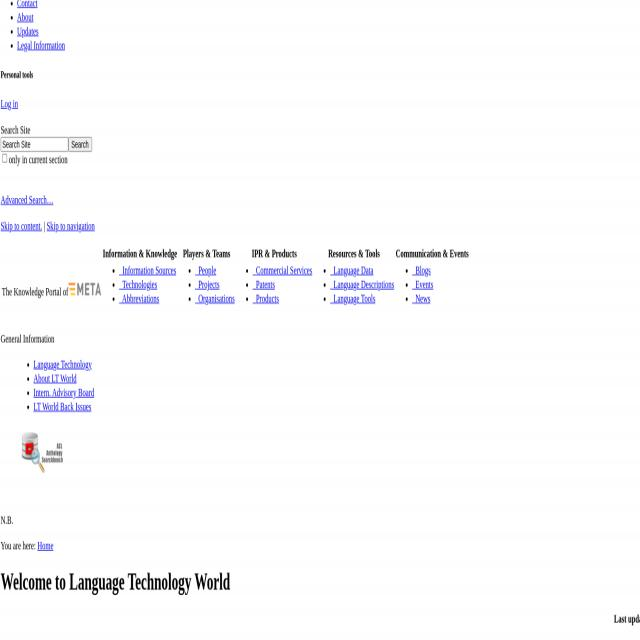button: (17, 424, 69, 474), (68, 281, 100, 293), (67, 135, 91, 150)
field: (0, 135, 68, 151), (1, 152, 7, 162)
